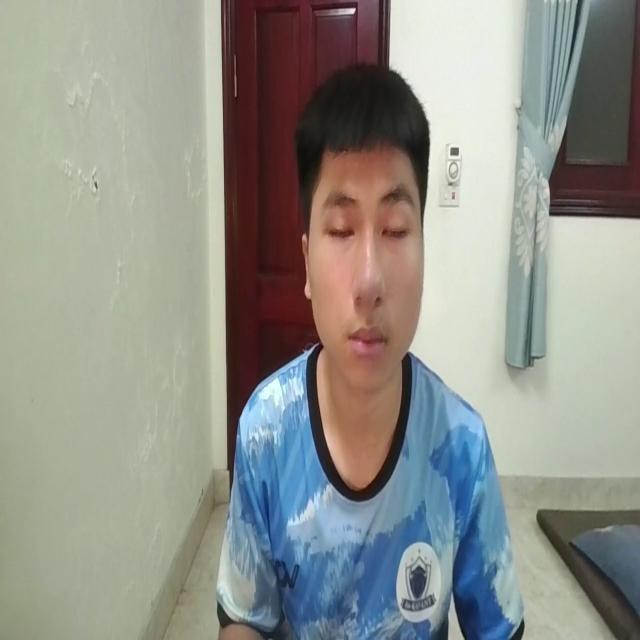student: (211, 50, 521, 640)
